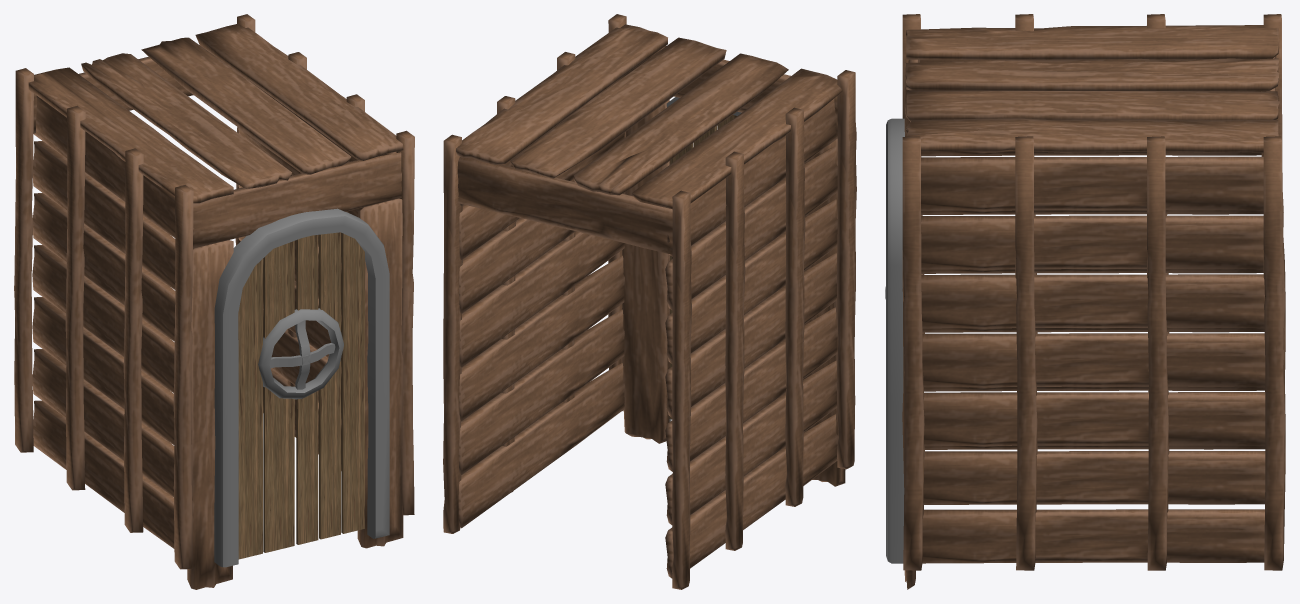
File: SM_front_wood_door.fbx
The picture shows the model from 3 angles, left to right: view 1: azimuth 30°, elevation 25°; view 2: azimuth 150°, elevation 25°; view 3: azimuth 270°, elevation 25°; orthographic projection. The views are drawn at different scales.
Visible parts, largest first — view 1: front_wood_door; view 2: front_wood_door; view 3: front_wood_door.
Boxes of the visible parts, x1=… form: front_wood_door: x1=14, y1=14, x2=414, y2=589; front_wood_door: x1=443, y1=14, x2=856, y2=589; front_wood_door: x1=885, y1=14, x2=1285, y2=589.
Size of the model in its own units: 199 by 328 by 261.
